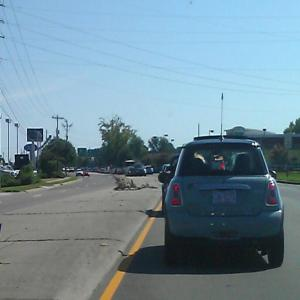Vehicle-registration-plate: (213, 190, 238, 207)
